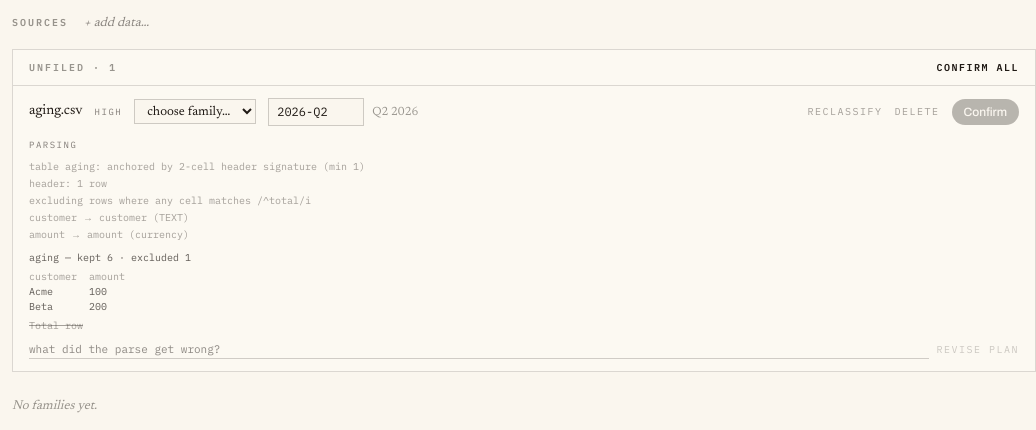
Test case: SourceManager › typing feedback and clicking 'revise plan' POSTs the replan and swaps in the returned proposal
Type "wrong anchor" into the field with placeholder "what did the parse get wrong?". click: [479, 350]
box: [29,341,928,358]
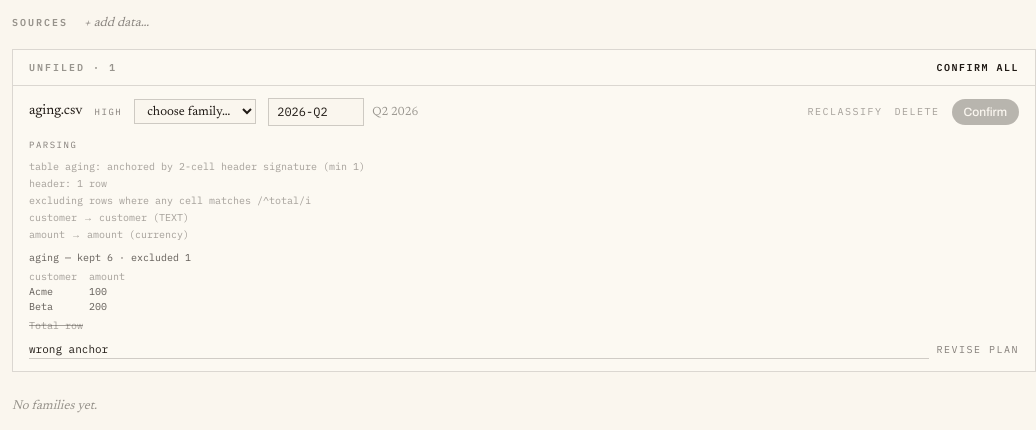
Click the button "revise plan". click: [978, 350]
box: [936,342,1019,357]
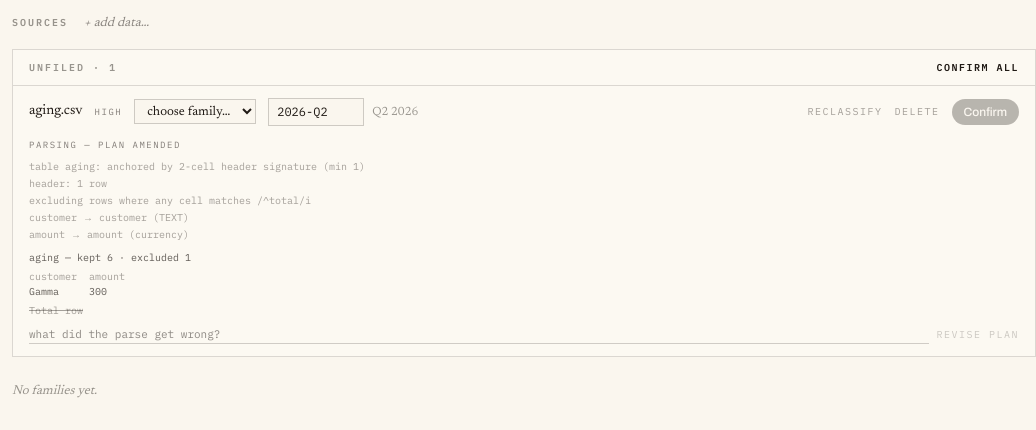
Expected: the text "Gamma" is shown, [29,284,89,299]
Expected: the text "Acme" is gone
